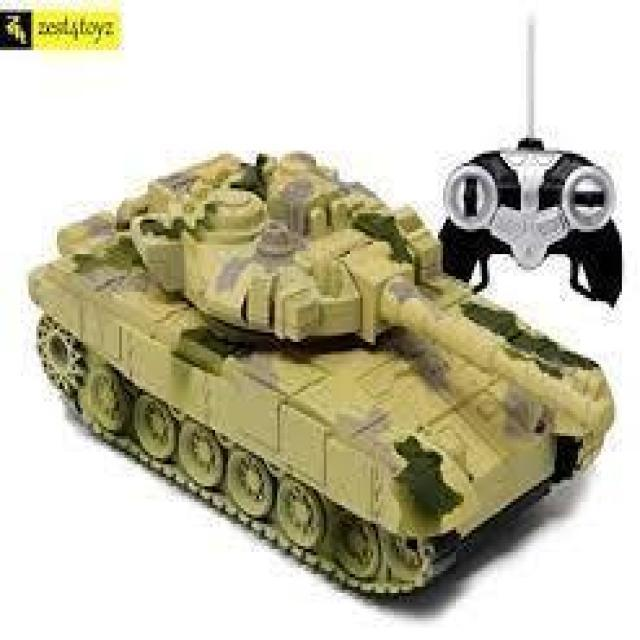MIL_MBT: (18, 130, 433, 635)
